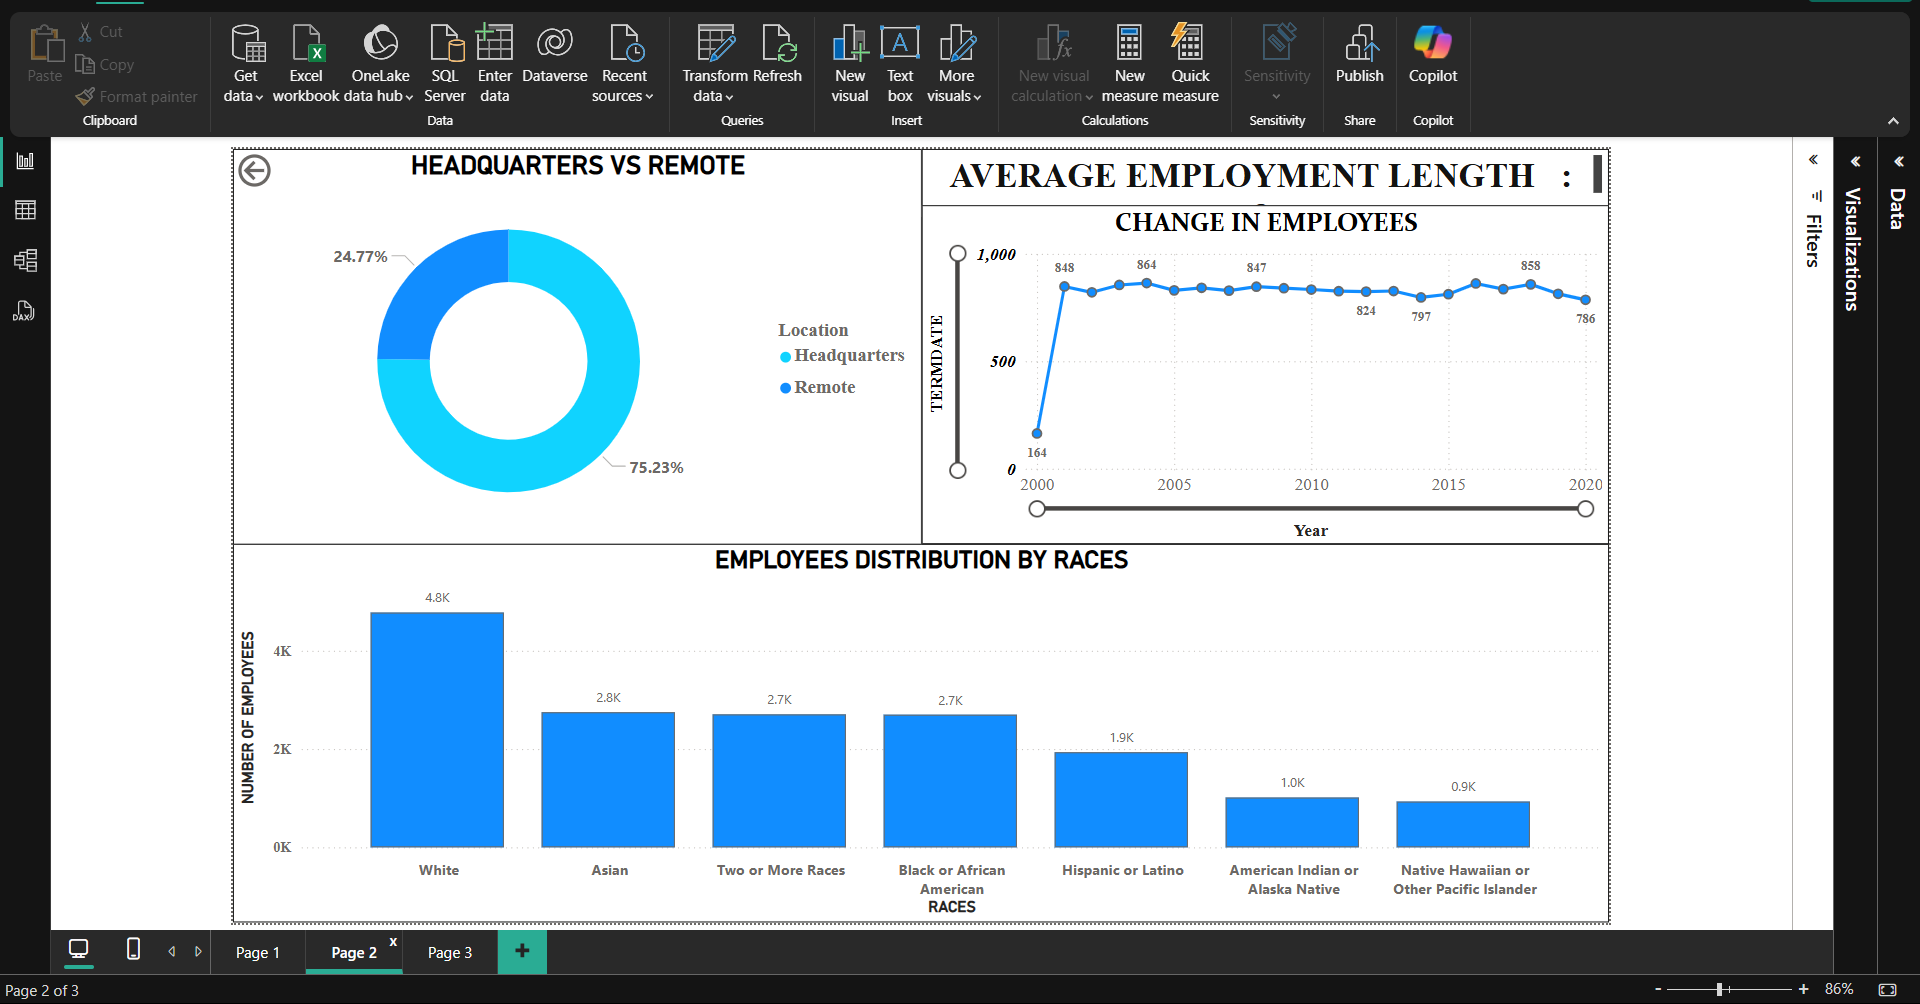

The dashboard page shown, as its layout file describes it:
{"tool":"powerbi","page":{"name":"Page 2","canvas":[1280,720],"ordinal":1},"visuals":[{"type":"columnChart","title":"EMPLOYEES DISTRIBUTION BY RACES","fields":{"Category":["processed human resources file.race"],"Y":["Sum(processed human resources file.row_num)"]},"box":[0,367.9,1279.8,352.4],"z":0},{"type":"donutChart","title":"HEADQUARTERS VS REMOTE","fields":{"Category":["processed human resources file.location"],"Y":["CountNonNull(processed human resources file.emp_id)"]},"box":[0,0,640.5,367.9],"z":1000},{"type":"actionButton","box":[0,0,100,40],"z":2000},{"type":"textbox","box":[640.5,0,639.3,63.1],"z":3001},{"type":"lineChart","title":"CHANGE IN EMPLOYEES","fields":{"Y":["CountNonNull(processed human resources file.termdate)"],"Category":["processed human resources file.hire_date.Variation.Date Hierarchy.Year"]},"box":[640.5,52.4,639.3,315.5],"z":3002}]}

Visuals, with their boxes on the page's 1280x720 design canvas (x1, y1, x2, y2). These are canvas units, not pixel positions in the 1920x1004 screenshot, which may show the page scaled, cropped or inside an application window:
"EMPLOYEES DISTRIBUTION BY RACES" columnChart: bbox=[0, 368, 1280, 720]
"HEADQUARTERS VS REMOTE" donutChart: bbox=[0, 0, 640, 368]
actionButton: bbox=[0, 0, 100, 40]
textbox: bbox=[640, 0, 1280, 63]
"CHANGE IN EMPLOYEES" lineChart: bbox=[640, 52, 1280, 368]
